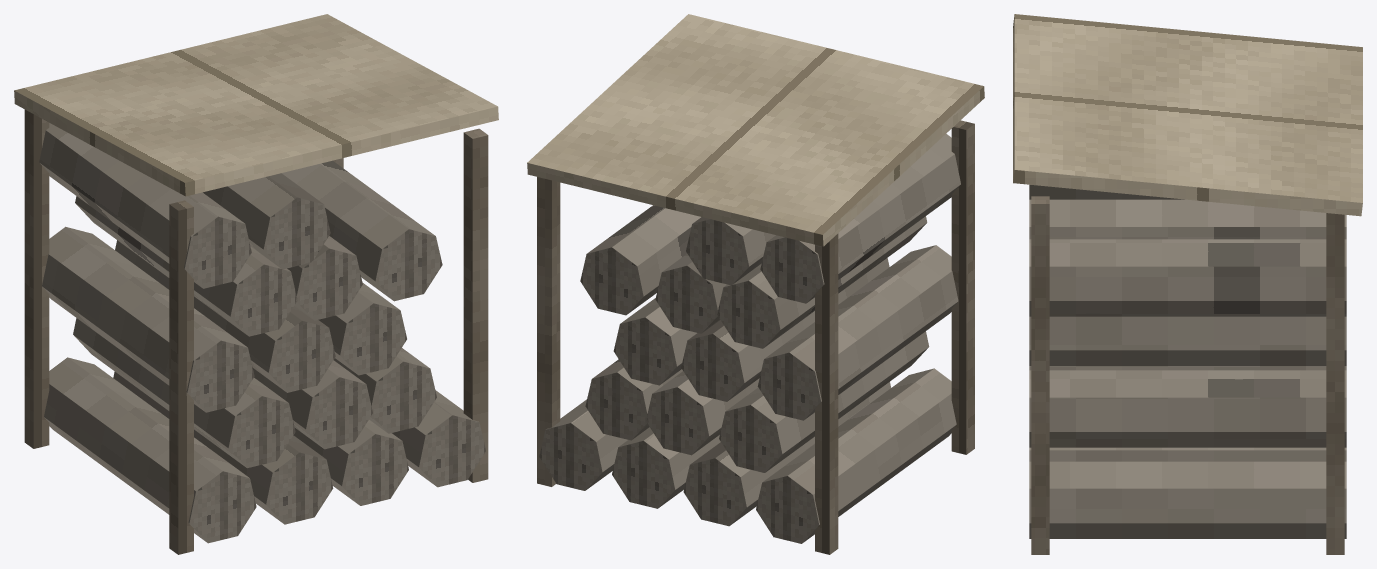
File: firewood_stack.obj
The picture shows the model from 3 angles, left to right: view 1: azimuth 30°, elevation 25°; view 2: azimuth 150°, elevation 25°; view 3: azimuth 270°, elevation 25°; orthographic projection. The views are drawn at different scales.
Visible parts, largest first — view 1: firewood_stack; view 2: firewood_stack; view 3: firewood_stack.
Part boxes in pixels (bbox=[...]): firewood_stack: bbox=[14, 14, 498, 554]; firewood_stack: bbox=[527, 14, 984, 554]; firewood_stack: bbox=[1013, 14, 1362, 554].
Size of the model in its own units: 1 by 1.15 by 0.949.
